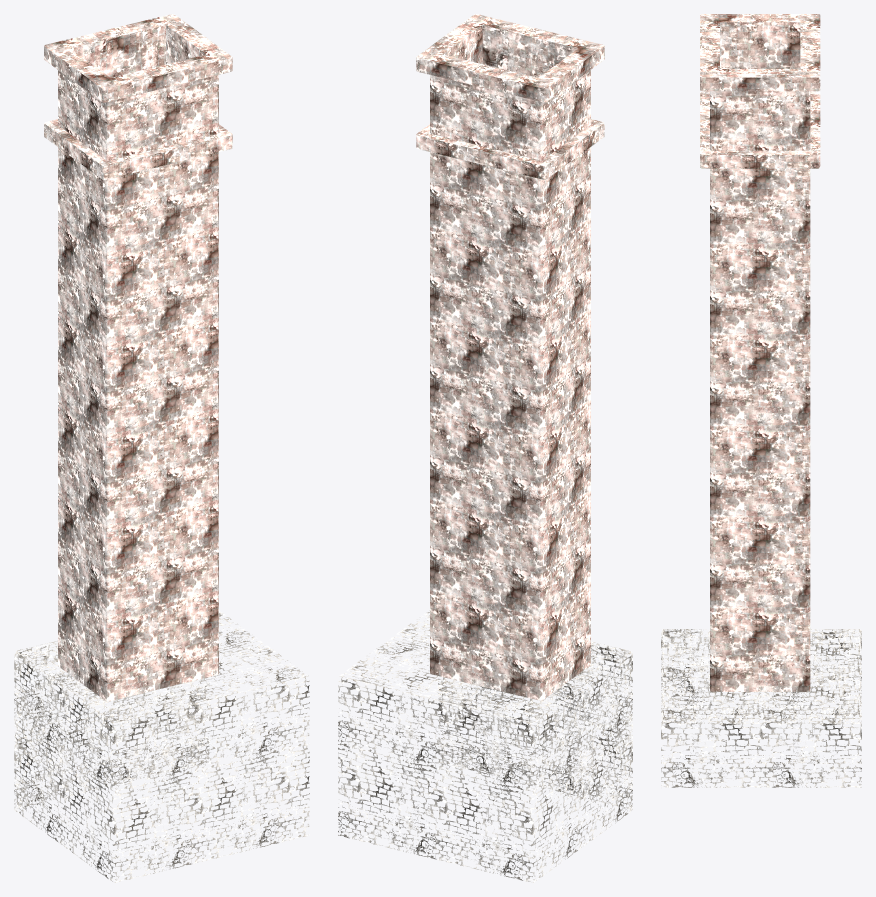
Rendered from SM_chimney_05.fbx.
3 renders of one model, left to right at view 1: azimuth 30°, elevation 25°; view 2: azimuth 150°, elevation 25°; view 3: azimuth 270°, elevation 25°, orthographic.
Parts seen in each view (by area): view 1: SM_chimney_05_LOD0; view 2: SM_chimney_05_LOD0; view 3: SM_chimney_05_LOD0.
Boxes of the visible parts, x1,y1,x2,y2 form: SM_chimney_05_LOD0: (14,14,309,882); SM_chimney_05_LOD0: (338,14,632,882); SM_chimney_05_LOD0: (661,14,861,787).
Bounding box in the file's own units: 450 × 400 × 1710.
2 materials, 2 textured.
